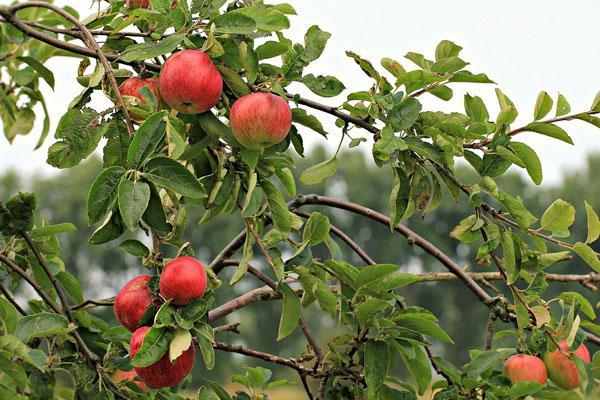apple: (156, 48, 222, 115), (229, 88, 291, 148), (113, 274, 155, 332), (158, 256, 207, 302), (502, 353, 545, 385), (544, 350, 577, 387)
